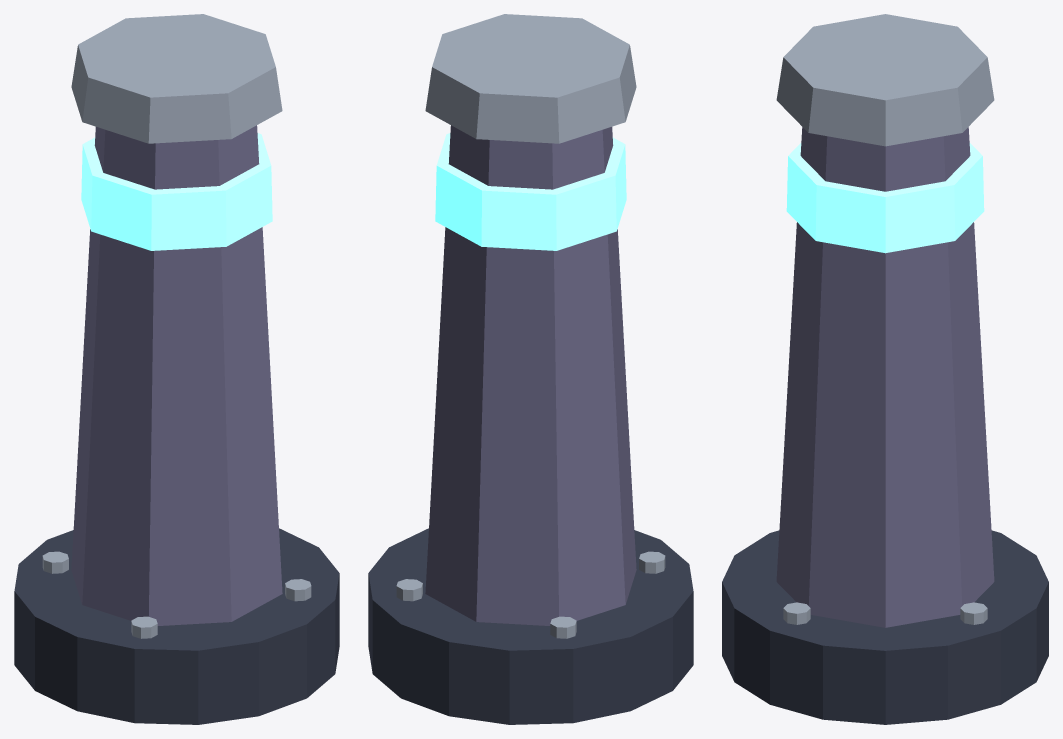
File: neon-dispatch-illuminated-security-bollard__171.glb
The picture shows the model from 3 angles, left to right: view 1: azimuth 30°, elevation 25°; view 2: azimuth 150°, elevation 25°; view 3: azimuth 270°, elevation 25°; orthographic projection.
Visible parts, largest first — view 1: shell, dark, metal, light; view 2: shell, dark, metal, light; view 3: shell, dark, metal, light.
Boxes of the visible parts, box(x1,y1,x2,y2) form: shell: box(71, 125, 282, 625); dark: box(14, 528, 339, 724); metal: box(42, 14, 311, 638); light: box(81, 133, 272, 250); shell: box(425, 125, 636, 625); dark: box(368, 528, 693, 724); metal: box(396, 14, 665, 638); light: box(435, 133, 626, 250); shell: box(776, 127, 994, 627); dark: box(722, 530, 1048, 724); metal: box(776, 14, 994, 624); light: box(786, 143, 984, 253).
Bounding box in the file's own units: 0.48 × 0.97 × 0.48.
